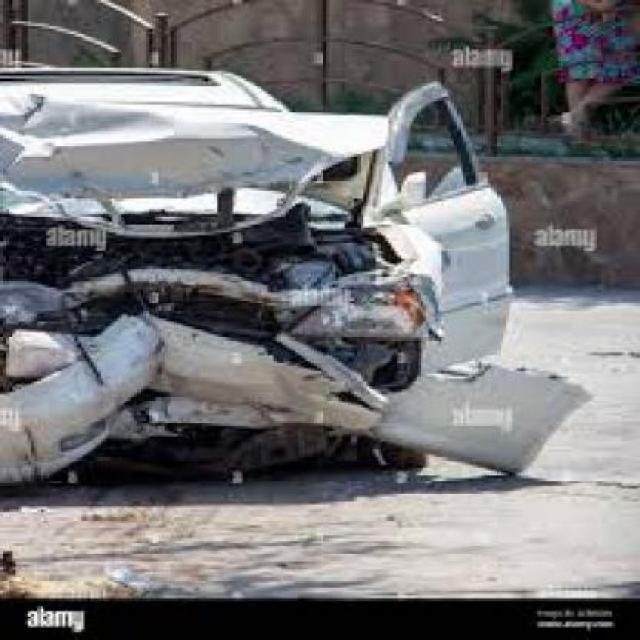damaged-front-bumper: (1, 320, 568, 482)
